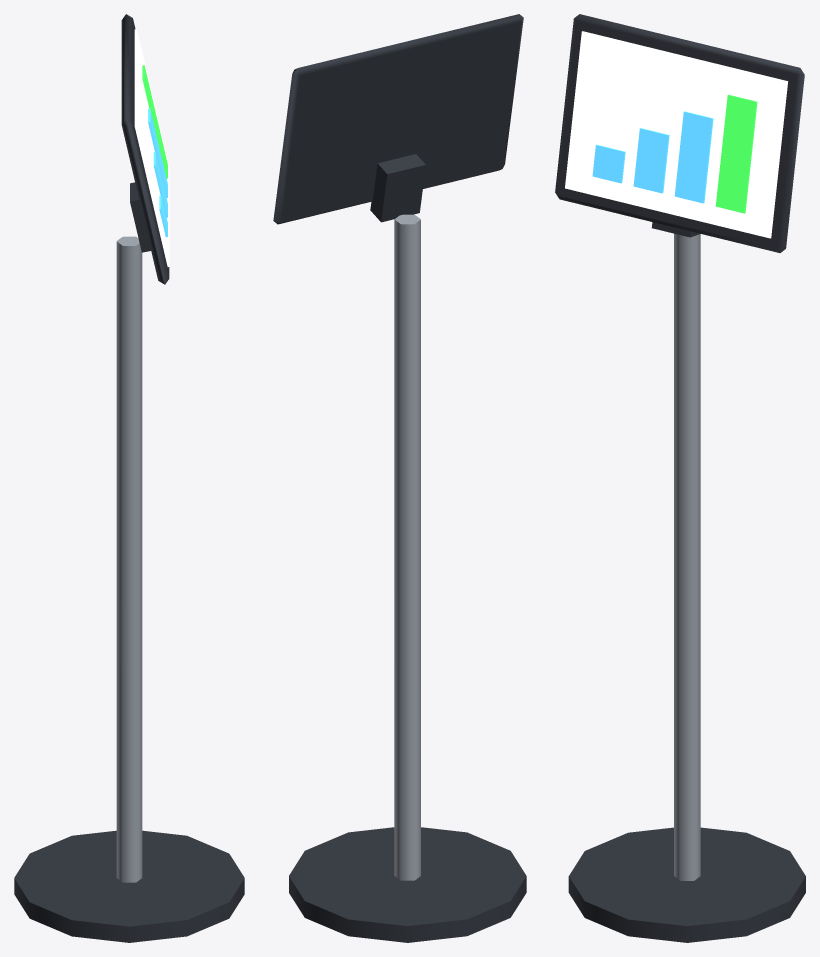
The model's file is station_special_ausstattung_1_1.glb.
The picture shows the model from 3 angles, left to right: view 1: azimuth 30°, elevation 25°; view 2: azimuth 150°, elevation 25°; view 3: azimuth 270°, elevation 25°; orthographic projection. The views are drawn at different scales.
Parts seen in each view (by area): view 1: station_special_ausstattung_1_1; view 2: station_special_ausstattung_1_1; view 3: station_special_ausstattung_1_1.
Part boxes in pixels (x1,y1,x2,y2): station_special_ausstattung_1_1: (14,14,244,942); station_special_ausstattung_1_1: (273,14,526,942); station_special_ausstattung_1_1: (555,14,805,942).
Bounding box in the file's own units: 0.32 × 1.27 × 0.3386.
